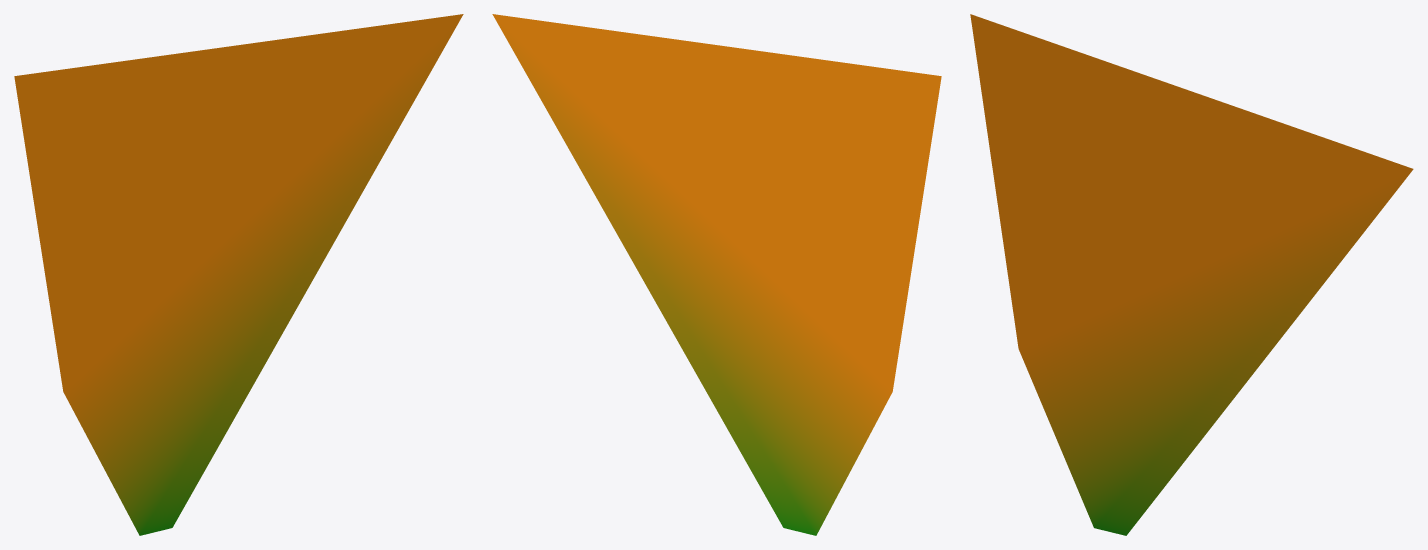
File: Common Eelgrass_LOD4_Var1_sjglk.fbx
The picture shows the model from 3 angles, left to right: view 1: azimuth 30°, elevation 25°; view 2: azimuth 150°, elevation 25°; view 3: azimuth 330°, elevation 25°; orthographic projection.
Visible parts, largest first — view 1: _d824_Var1_LOD4; view 2: _d824_Var1_LOD4; view 3: _d824_Var1_LOD4.
Part boxes in pixels (<box>): _d824_Var1_LOD4: <box>14,14,463,535</box>; _d824_Var1_LOD4: <box>492,14,941,535</box>; _d824_Var1_LOD4: <box>970,14,1413,535</box>.
Bounding box in the file's own units: 98.64 × 103 × 8.58e-06.
